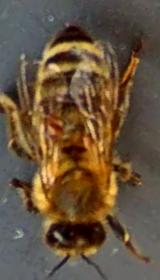varroa_mite: (30, 104, 76, 149)
